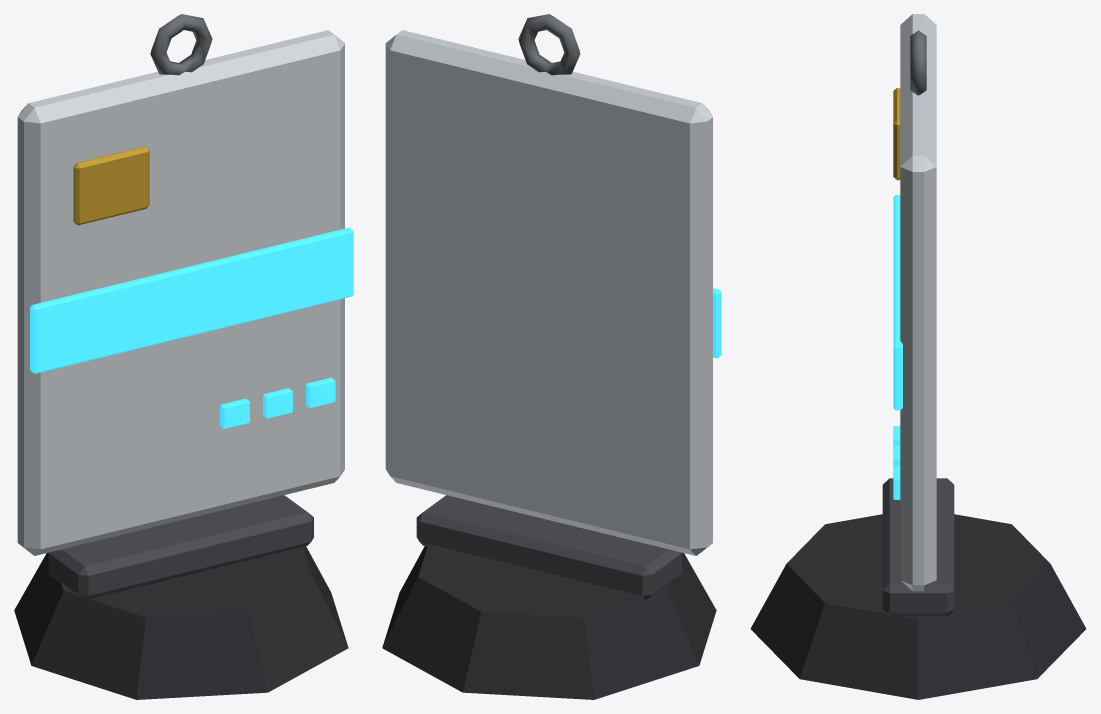
File: keycard.glb
3 renders of one model, left to right at view 1: azimuth 30°, elevation 25°; view 2: azimuth 150°, elevation 25°; view 3: azimuth 270°, elevation 25°, orthographic. The views are drawn at different scales.
Visible parts, largest first — view 1: prop.keycard; view 2: prop.keycard; view 3: prop.keycard.
Part boxes in pixels (<box>): prop.keycard: <box>14,14,353,699</box>; prop.keycard: <box>382,14,721,699</box>; prop.keycard: <box>750,14,1086,699</box>.
Bounding box in the file's own units: 0.3006 × 0.55 × 0.2805.
